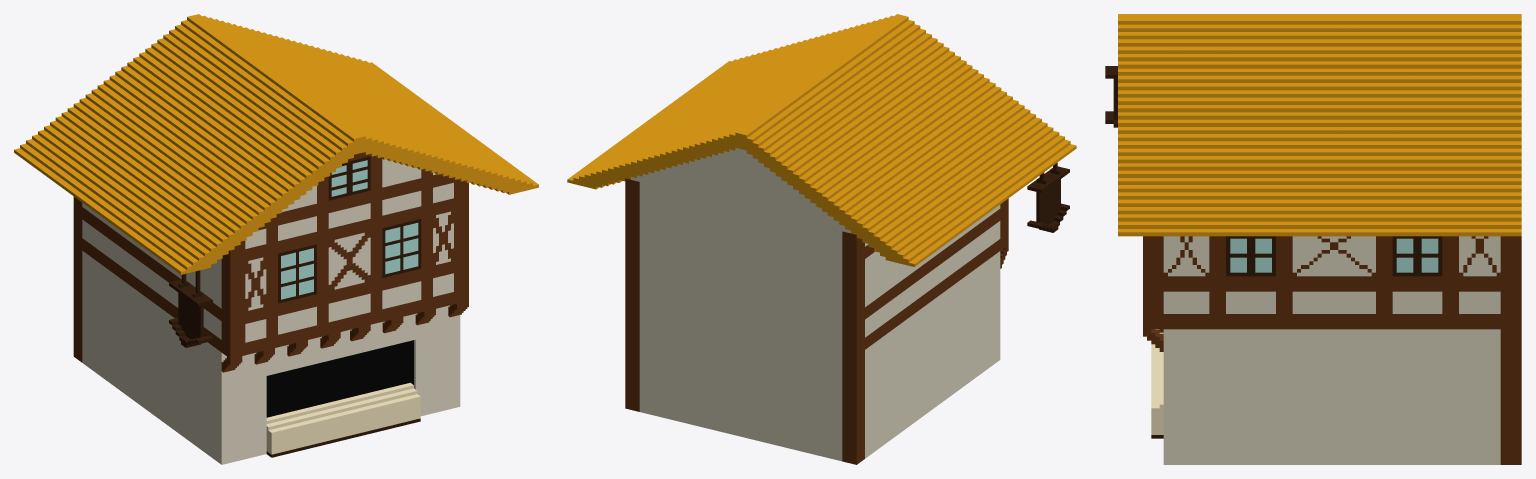
Rendered from shop.kari.obj.
3 views of the same model, side by side, from view 1: azimuth 30°, elevation 25°; view 2: azimuth 150°, elevation 25°; view 3: azimuth 270°, elevation 25° (orthographic). The views are drawn at different scales.
Bounding box in the file's own units: 12 × 10 × 10.
1 material, 1 textured.
